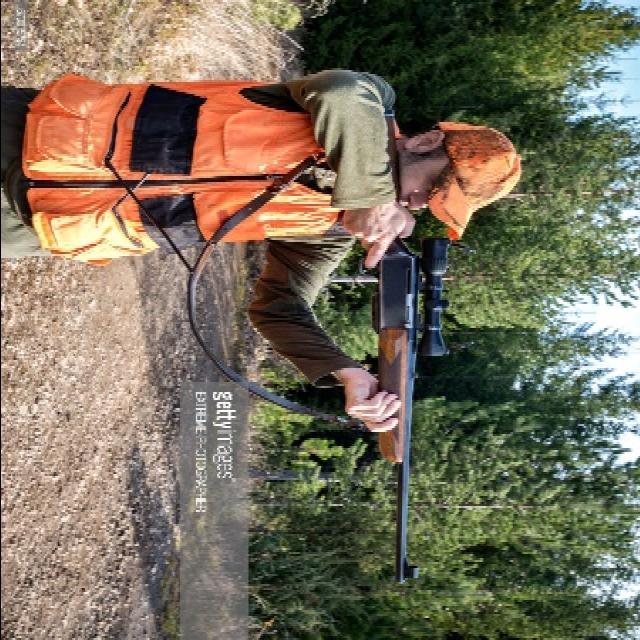rifle: (356, 155, 452, 609)
